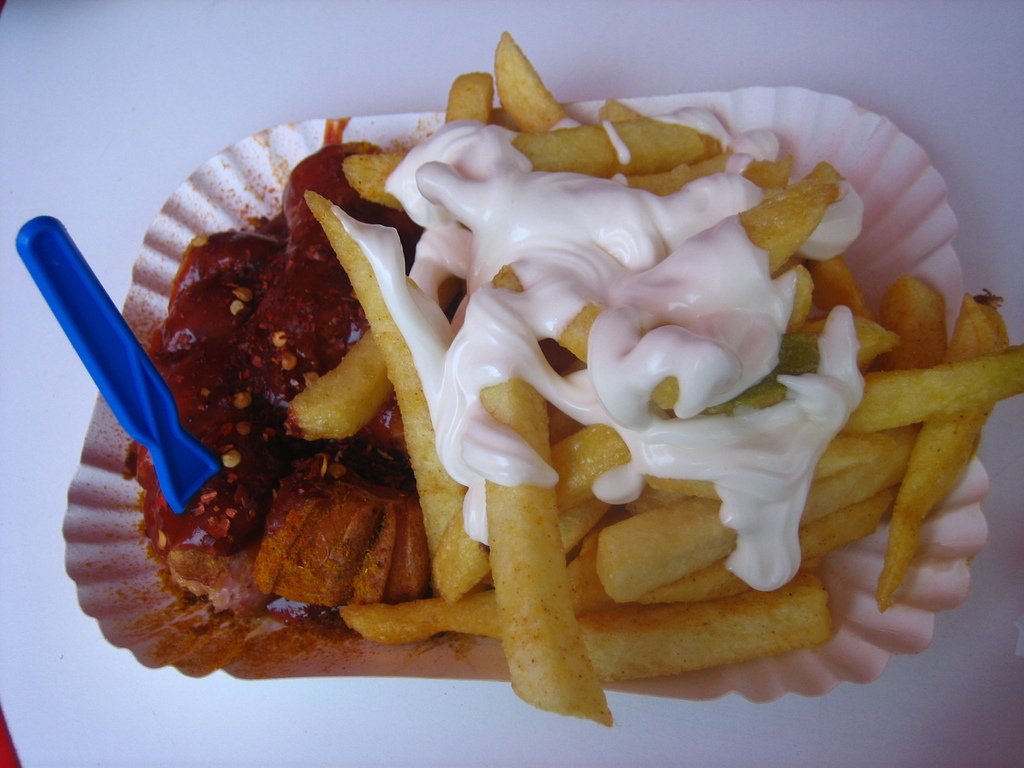French fries: (148, 143, 975, 712)
